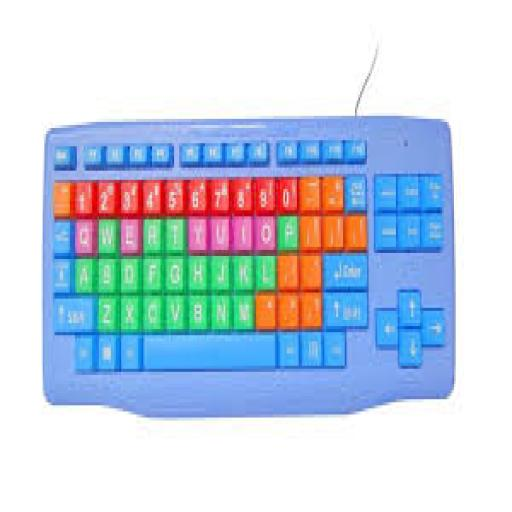KEYBOARD-2: (43, 122, 452, 414)
